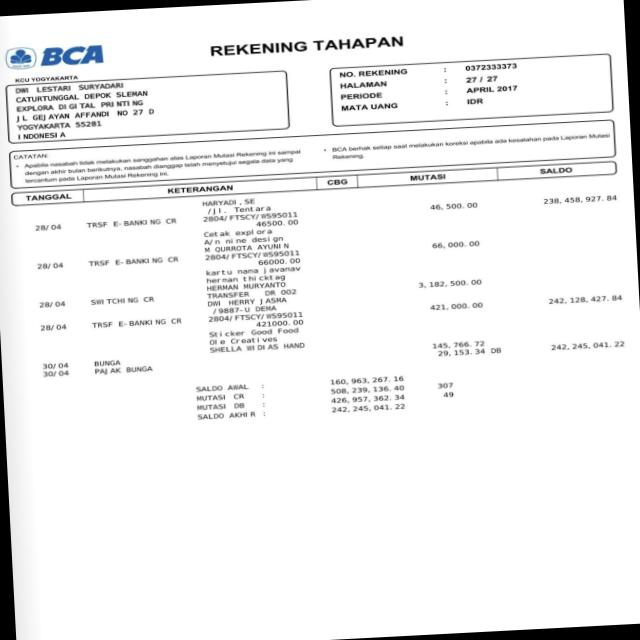transaction: (32, 230, 626, 302), (36, 294, 630, 363), (33, 193, 626, 262), (36, 270, 630, 326), (35, 331, 632, 384)
